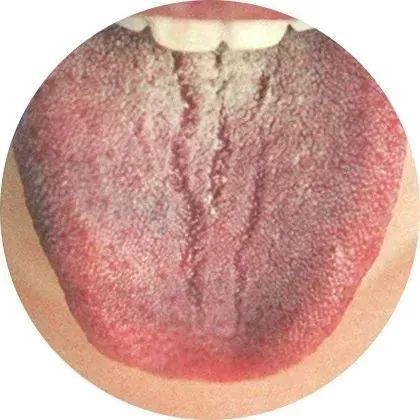baitaishe: (13, 28, 407, 383)
hongshe: (13, 28, 407, 383)
liewenshe: (168, 52, 283, 338)
